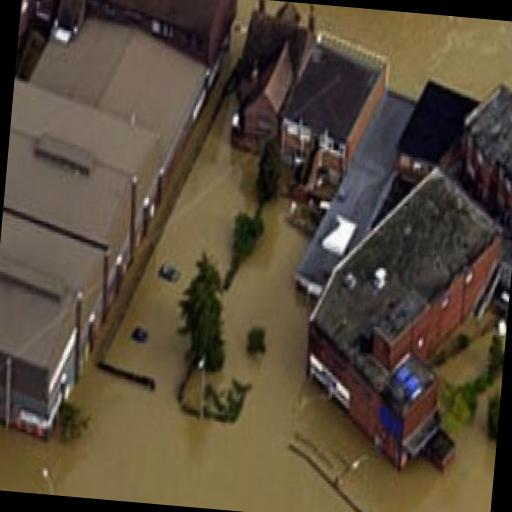flood: (0, 93, 502, 512), (313, 4, 512, 101)
house: (293, 159, 512, 482), (0, 79, 170, 443), (262, 34, 386, 205), (450, 81, 512, 273)
